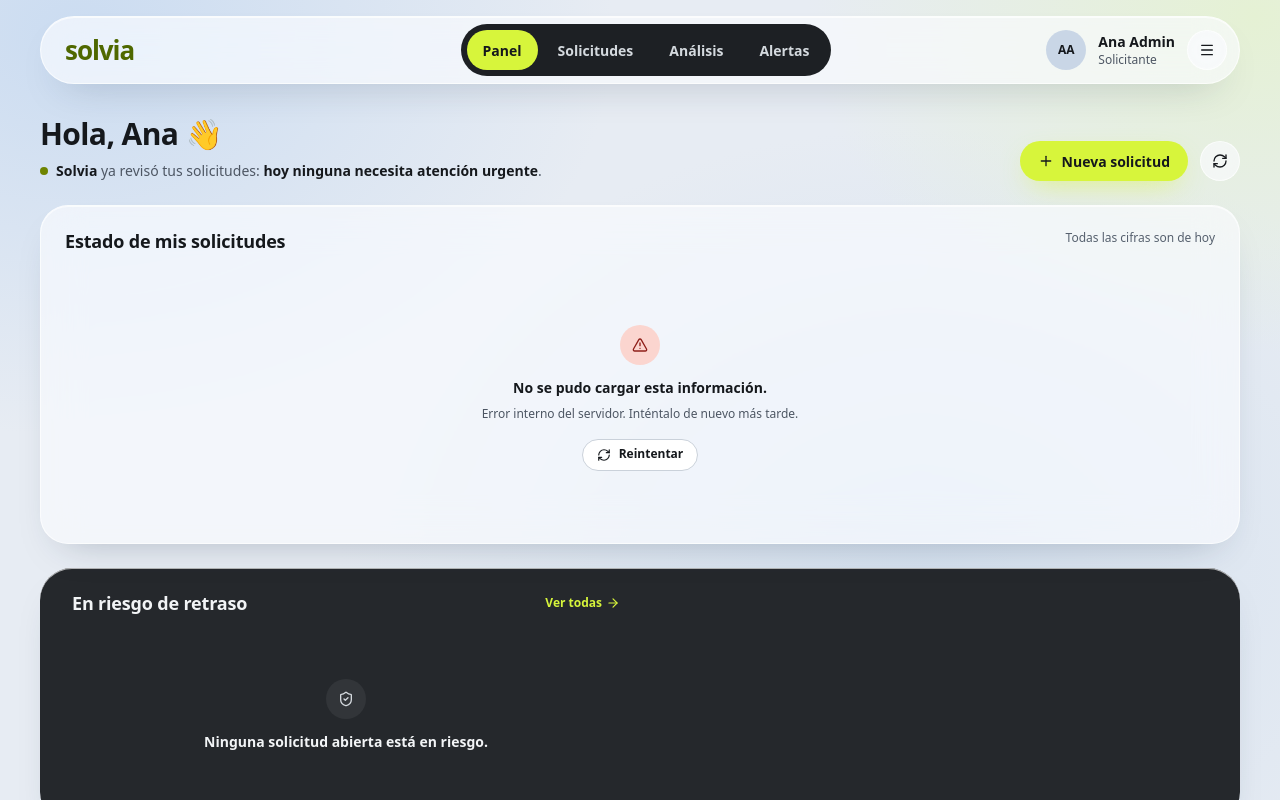
Test case: protección de rutas › oculta Administración y bloquea sus rutas a quien no es admin
Check: the heading "Hola, Ana 👋" is shown, box left=40, top=113, right=222, bottom=154
Check: the link "Solicitudes" is shown, box left=558, top=40, right=633, bottom=60
Click the button named "Menú de la cuenta" at [1207, 50], box left=1187, top=30, right=1227, bottom=70
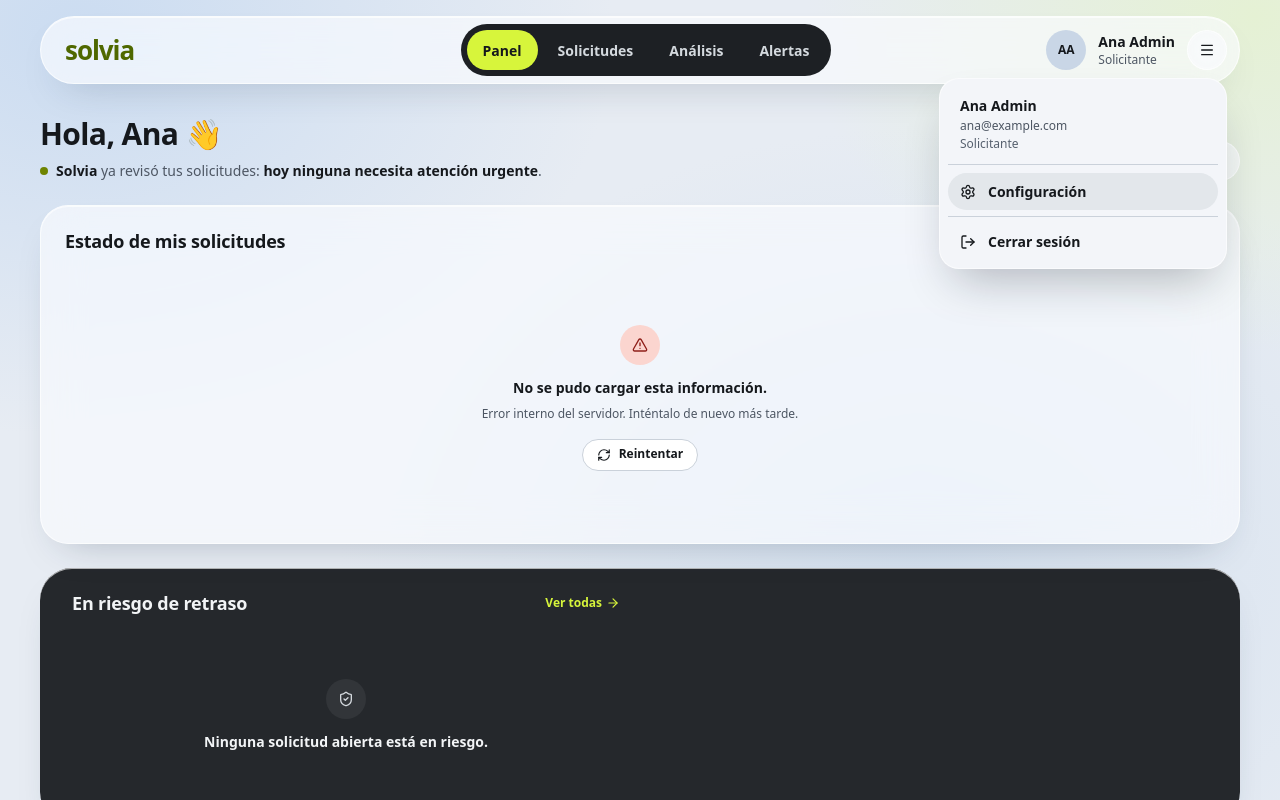
Check: the menu item "Configuración" is shown, box left=948, top=173, right=1218, bottom=210
